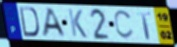2: (90, 7, 111, 41)
A: (41, 8, 68, 39)
C: (113, 9, 135, 41)
D: (19, 6, 41, 38)
K: (67, 8, 89, 39)
T: (135, 11, 152, 41)
